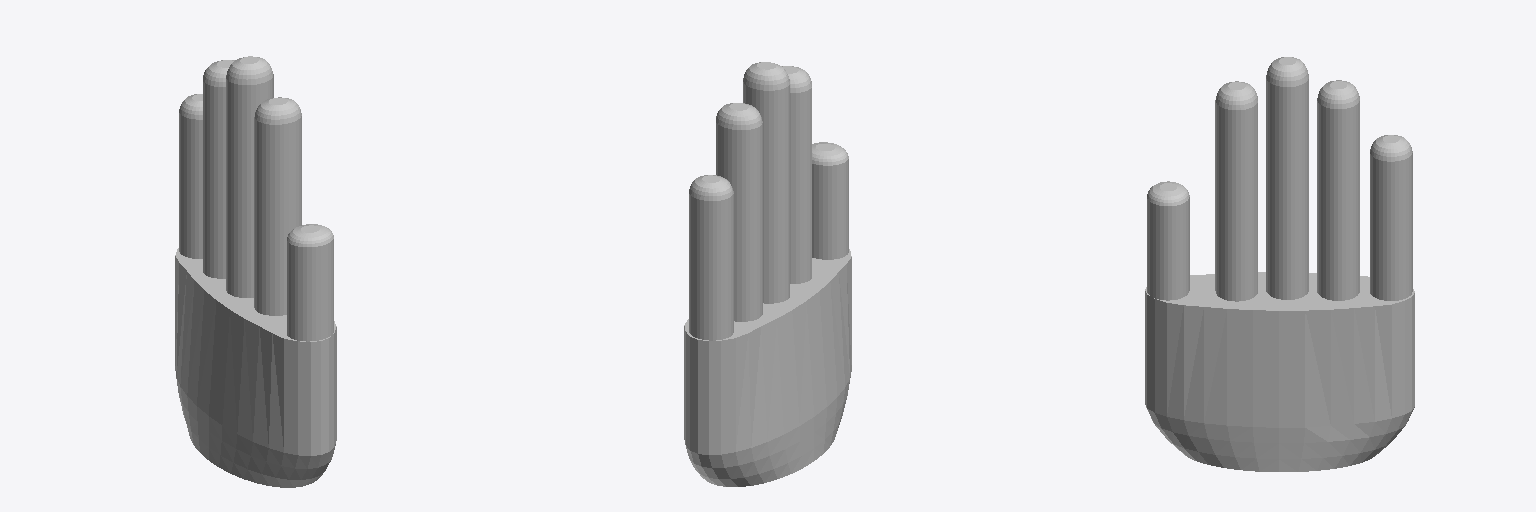
File: hand.obj
3 views of the same model, side by side, from view 1: azimuth 30°, elevation 25°; view 2: azimuth 150°, elevation 25°; view 3: azimuth 270°, elevation 25° (orthographic).
Parts seen in each view (by area): view 1: Cylinder.005, Cylinder.003, Cylinder.002, Cylinder.004, Cylinder.001, Cylinder; view 2: Cylinder.005, Cylinder.001, Cylinder.002, Cylinder, Cylinder.003, Cylinder.004; view 3: Cylinder.005, Cylinder.002, Cylinder.001, Cylinder.003, Cylinder, Cylinder.004.
Boxes of the visible parts, <box> form: Cylinder.005: <box>175,248,336,487</box>; Cylinder.003: <box>254,97,301,315</box>; Cylinder.002: <box>226,56,273,297</box>; Cylinder.004: <box>287,224,333,341</box>; Cylinder.001: <box>203,60,234,278</box>; Cylinder: <box>179,94,202,258</box>; Cylinder.005: <box>684,249,851,486</box>; Cylinder.001: <box>716,103,762,321</box>; Cylinder.002: <box>743,62,789,303</box>; Cylinder: <box>689,175,733,340</box>; Cylinder.003: <box>782,66,811,283</box>; Cylinder.004: <box>812,142,848,259</box>; Cylinder.005: <box>1145,272,1414,471</box>; Cylinder.002: <box>1266,57,1308,299</box>; Cylinder.001: <box>1317,80,1359,300</box>; Cylinder.003: <box>1215,81,1257,301</box>; Cylinder: <box>1370,135,1412,300</box>; Cylinder.004: <box>1147,181,1189,300</box>.
Size of the model in its own units: 0.9044 by 3.58 by 2.27.